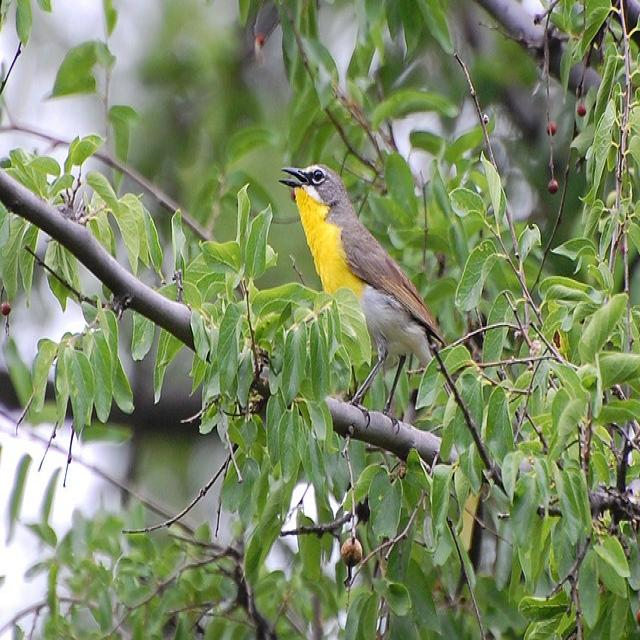bird: (277, 158, 457, 432)
